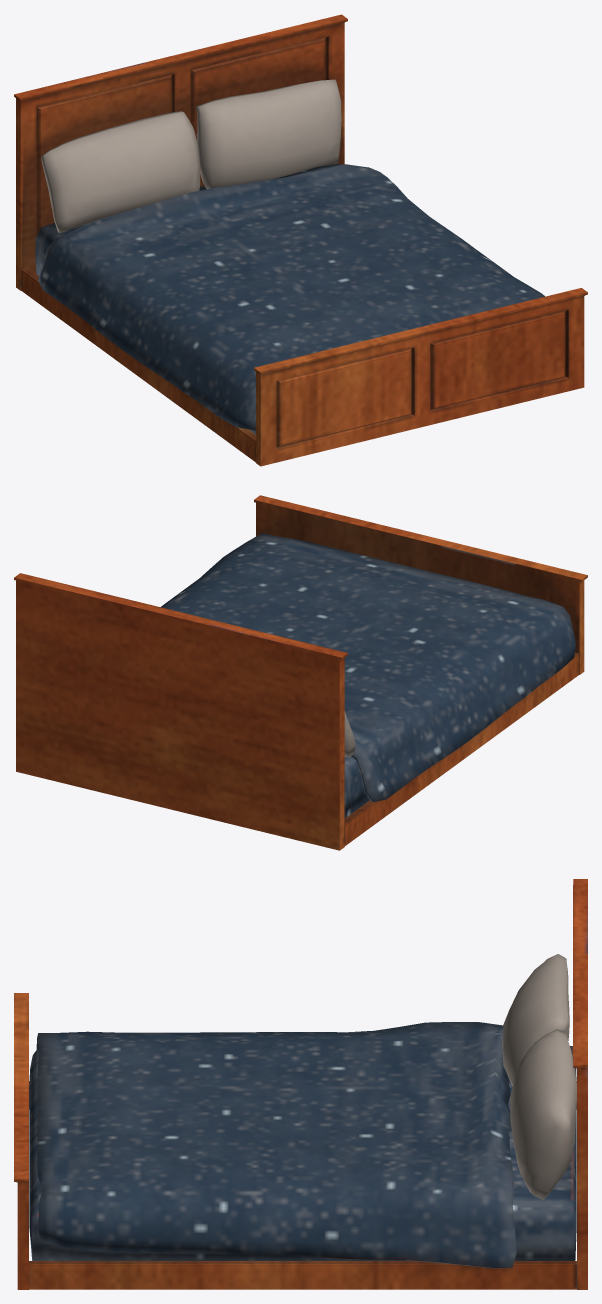
The model's file is bed1.fbx.
3 renders of one model, top to bottom at view 1: azimuth 30°, elevation 25°; view 2: azimuth 150°, elevation 25°; view 3: azimuth 270°, elevation 25°, orthographic. The views are drawn at different scales.
Visible parts, largest first — view 1: Queen_Size_Bed_With_Paprika_Sheets_White_V1; view 2: Queen_Size_Bed_With_Paprika_Sheets_White_V1; view 3: Queen_Size_Bed_With_Paprika_Sheets_White_V1.
Part boxes in pixels (x1,y1,x2,y2): Queen_Size_Bed_With_Paprika_Sheets_White_V1: [14, 14, 587, 466]; Queen_Size_Bed_With_Paprika_Sheets_White_V1: [14, 495, 587, 850]; Queen_Size_Bed_With_Paprika_Sheets_White_V1: [14, 879, 587, 1289].
Bounding box in the file's own units: 1.62 × 0.8673 × 2.
Materials: 1 (1 with a texture image).
